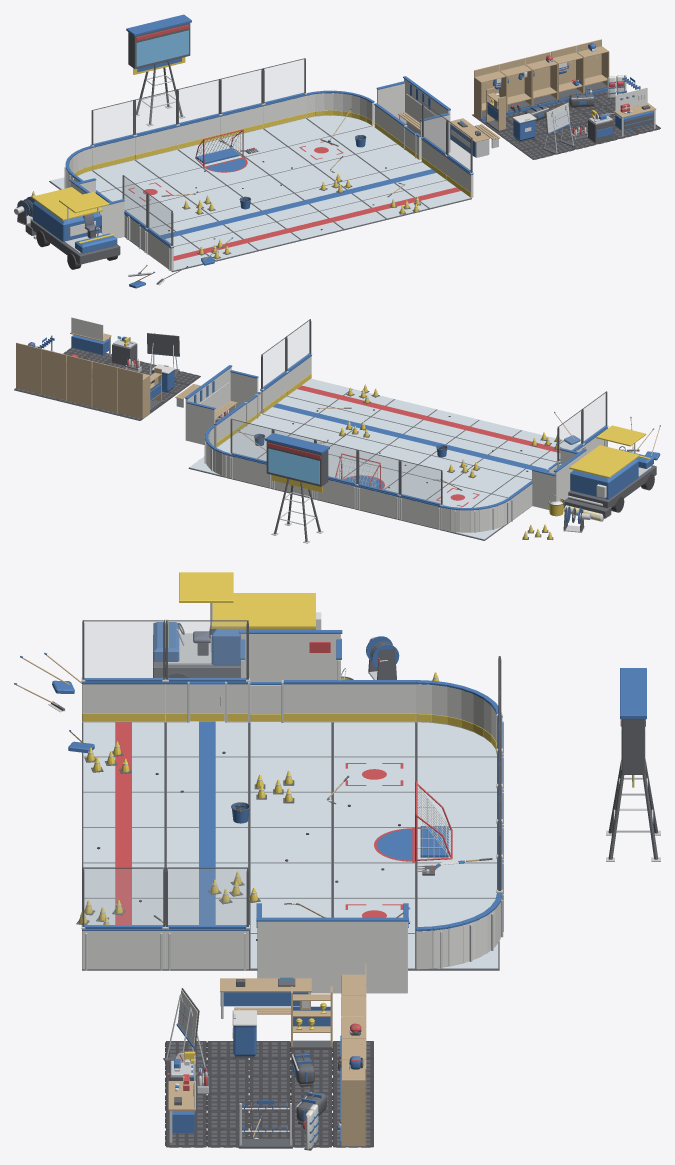
File: ice-hockey-arena-and-locker-room-rink-en-1051d943-starter-scene__33739.glb
3 renders of one model, top to bottom at view 1: azimuth 30°, elevation 25°; view 2: azimuth 150°, elevation 25°; view 3: azimuth 270°, elevation 25°, orthographic. The views are drawn at different scales.
Parts seen in each view (by area): view 1: 082-players-bench/0, 086-ice-resurfacer/9, 086-ice-resurfacer/11, 047-protective-glass-panel/0, 051-protective-glass-panel/0, 050-protective-glass-panel/0, 048-protective-glass-panel/0, 049-protective-glass-panel/0, 041-boards-panel-corner/0, 085-arena-scoreboard/2, 085-arena-scoreboard/0, 124-stall-bench-unit/0 (+57 smaller); view 2: 082-players-bench/0, 086-ice-resurfacer/11, 086-ice-resurfacer/9, 123-stall-bench-unit/0, 084-penalty-box/0, 040-boards-panel-corner/0, 047-protective-glass-panel/0, 048-protective-glass-panel/0, 085-arena-scoreboard/0, 085-arena-scoreboard/2, 124-stall-bench-unit/0, 126-stall-bench-unit/0 (+48 smaller); view 3: 082-players-bench/0, 084-penalty-box/0, 086-ice-resurfacer/11, 052-protective-glass-panel/0, 053-protective-glass-panel/0, 054-protective-glass-panel/0, 055-protective-glass-panel/0, 046-boards-panel-straight/0, 045-boards-panel-straight/0, 041-boards-panel-corner/0, 021-ice-surface-tile/1, 011-ice-surface-tile/1 (+48 smaller).
Part boxes in pixels (x1,y1,x2,y2): 082-players-bench/0: (374, 79, 450, 159); 086-ice-resurfacer/9: (32, 201, 117, 253); 086-ice-resurfacer/11: (32, 187, 113, 243); 047-protective-glass-panel/0: (93, 101, 133, 143); 051-protective-glass-panel/0: (264, 59, 304, 101); 050-protective-glass-panel/0: (222, 70, 261, 112); 048-protective-glass-panel/0: (136, 91, 175, 133); 049-protective-glass-panel/0: (179, 80, 218, 122); 041-boards-panel-corner/0: (306, 93, 374, 125); 085-arena-scoreboard/2: (136, 30, 188, 66); 085-arena-scoreboard/0: (128, 23, 190, 124); 124-stall-bench-unit/0: (499, 58, 532, 115); 082-players-bench/0: (185, 367, 260, 447); 086-ice-resurfacer/11: (569, 425, 650, 478); 086-ice-resurfacer/9: (570, 449, 653, 499); 123-stall-bench-unit/0: (117, 367, 149, 418); 084-penalty-box/0: (532, 450, 585, 509); 040-boards-panel-corner/0: (442, 500, 509, 532); 047-protective-glass-panel/0: (401, 461, 440, 503); 048-protective-glass-panel/0: (359, 451, 398, 492); 085-arena-scoreboard/0: (266, 441, 328, 541); 085-arena-scoreboard/2: (268, 448, 319, 484); 124-stall-bench-unit/0: (92, 361, 123, 412); 126-stall-bench-unit/0: (41, 349, 67, 400); 082-players-bench/0: (257, 921, 407, 993); 084-penalty-box/0: (240, 634, 340, 722); 086-ice-resurfacer/11: (164, 572, 315, 648); 052-protective-glass-panel/0: (168, 621, 246, 678); 053-protective-glass-panel/0: (84, 621, 162, 678); 054-protective-glass-panel/0: (168, 869, 246, 925); 055-protective-glass-panel/0: (84, 869, 162, 925); 046-boards-panel-straight/0: (82, 931, 165, 969); 045-boards-panel-straight/0: (165, 931, 248, 969); 041-boards-panel-corner/0: (416, 899, 501, 969); 021-ice-surface-tile/1: (334, 863, 414, 898); 011-ice-surface-tile/1: (334, 792, 414, 827).
Bounding box in the file's own units: 27.64 × 4.11 × 15.49.
